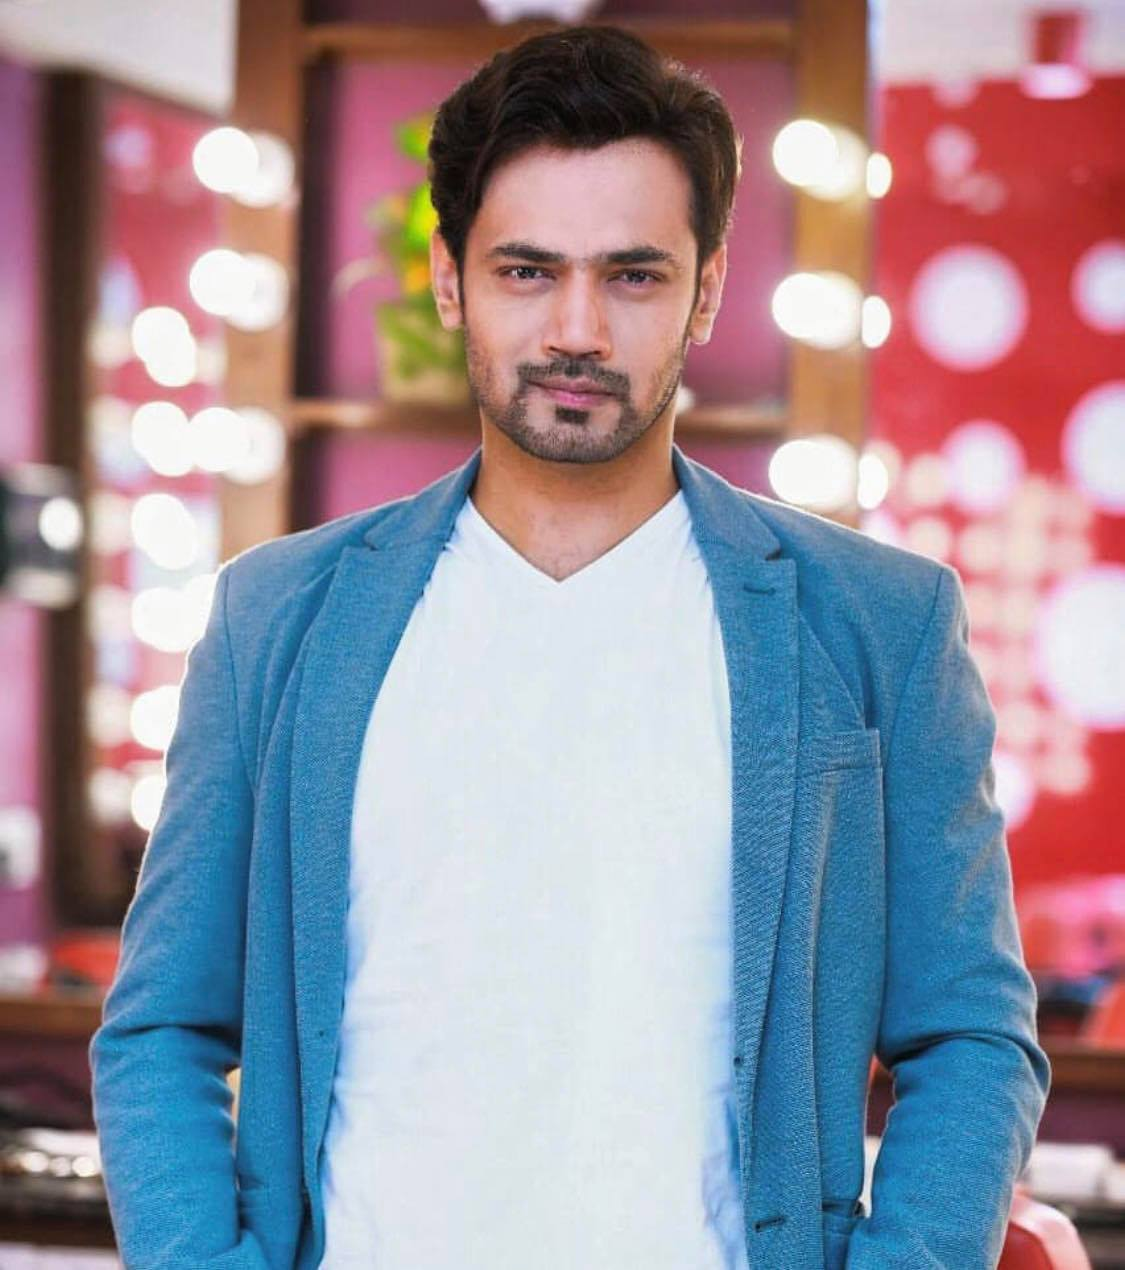NoMask: (476, 226, 686, 468)
